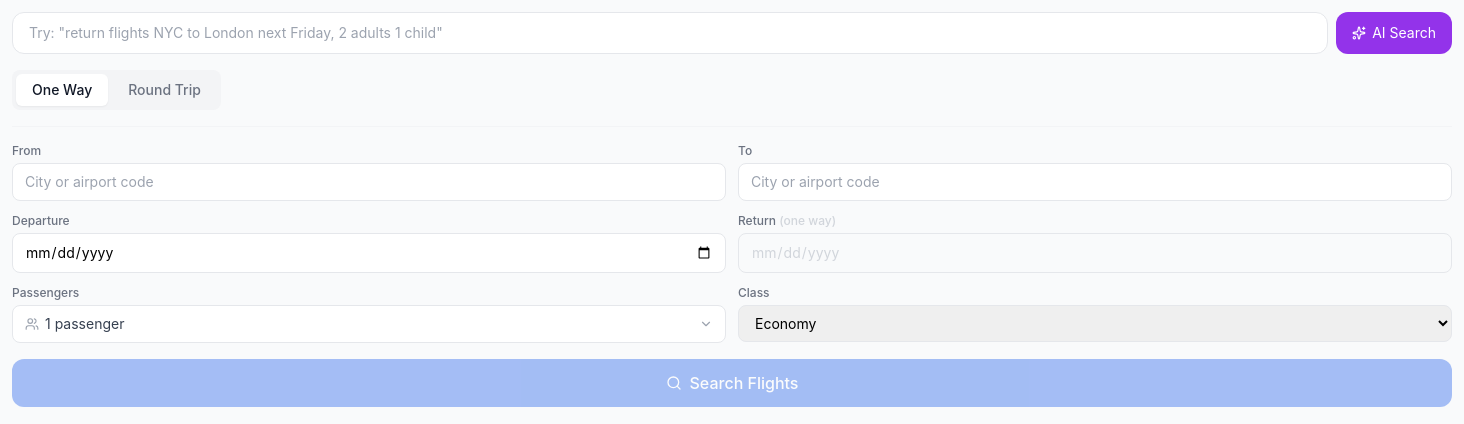
SearchForm — trip type toggle › switching back to One Way disables return date again
This screenshot has width=1464, height=424.
Click the button "Round Trip" at x=164, y=90, box [112,74,217,106]
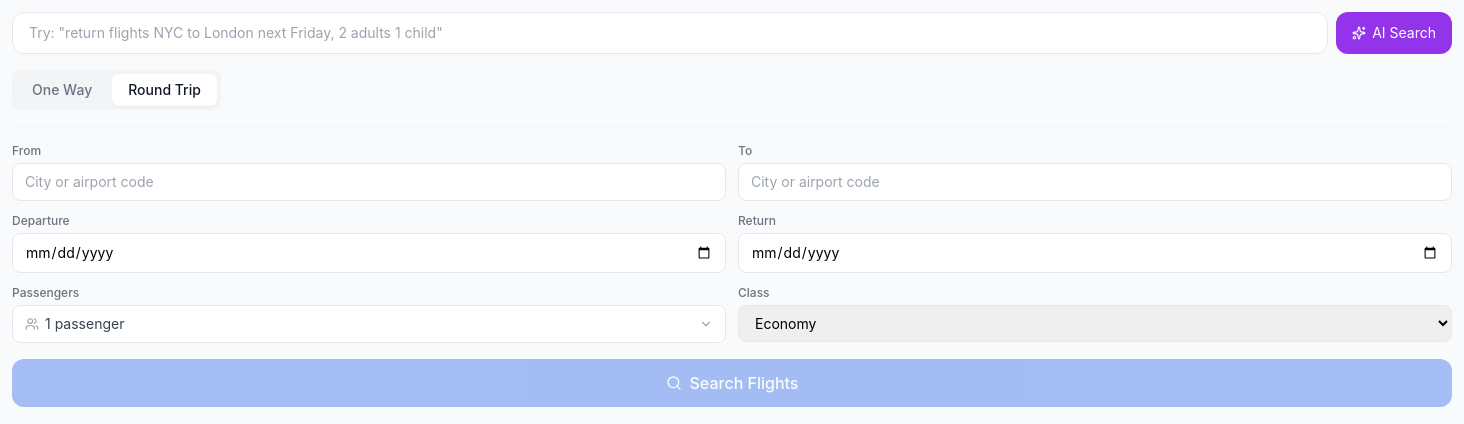
Click the button "One Way" at x=62, y=90, box [16,74,108,106]
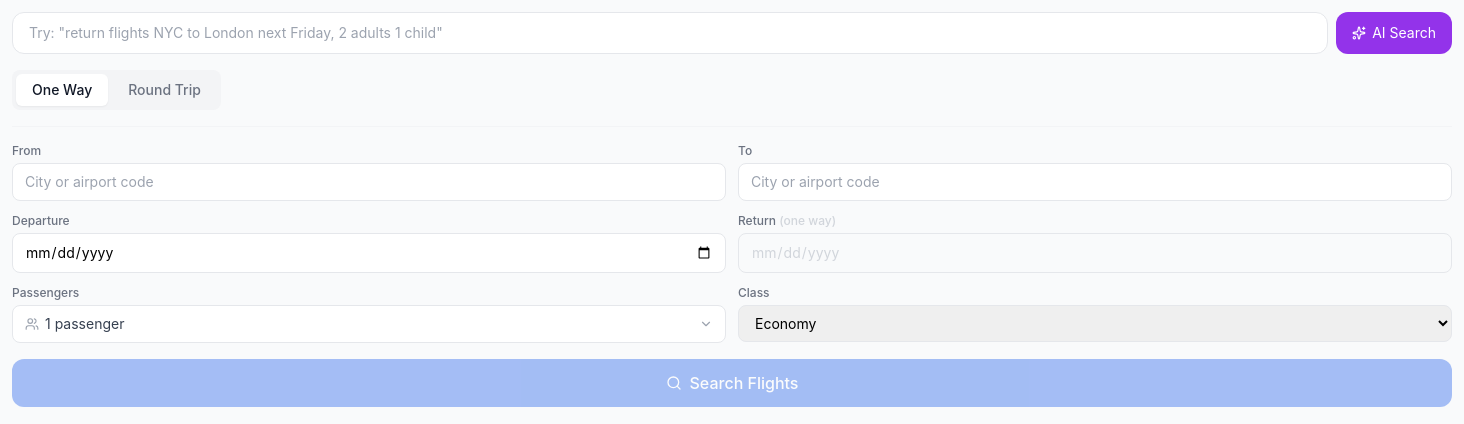
Expected: the date field labelled "Return (one way)" is disabled, [738,233,1452,273]
